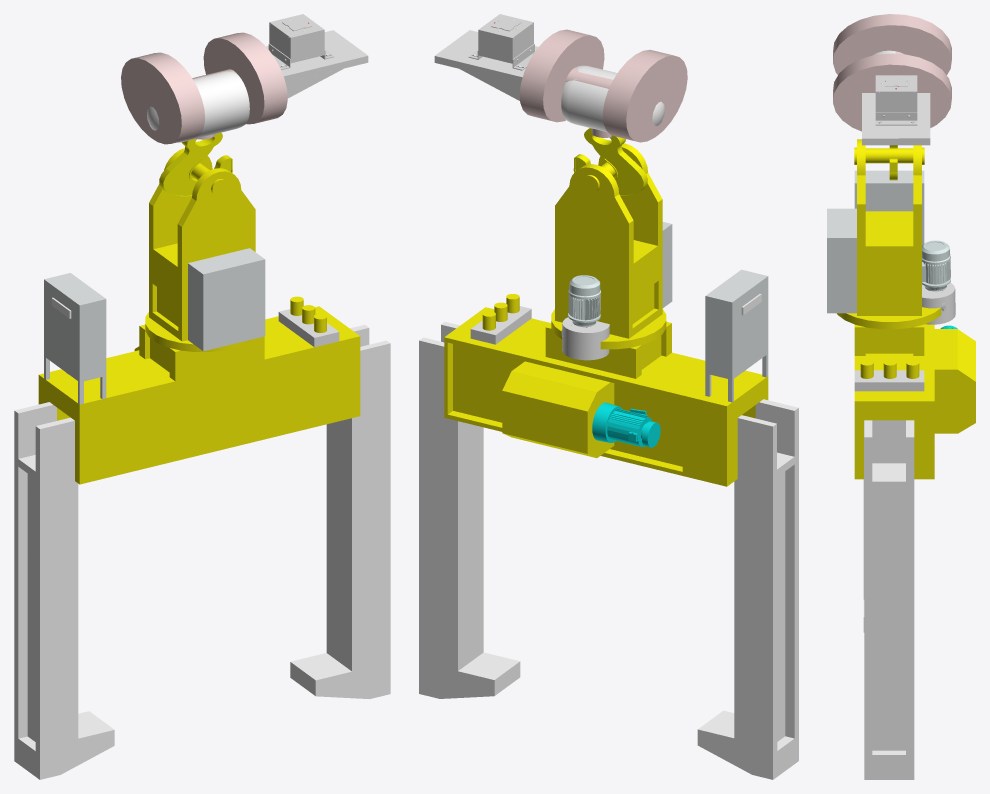
File: Lift.fbx
The picture shows the model from 3 angles, left to right: view 1: azimuth 30°, elevation 25°; view 2: azimuth 150°, elevation 25°; view 3: azimuth 270°, elevation 25°; orthographic projection. The views are drawn at different scales.
Visible parts, largest first — view 1: Baked_Mesh, Group_1_2, Group_1_1, Baked_Mesh_3, Baked_Mesh_2, Baked_Mesh_6, LiftHook, Baked_Mesh_8, Baked_Mesh_5; view 2: Baked_Mesh, Group_1_2, Group_1_1, Baked_Mesh_2, Baked_Mesh_3, Baked_Mesh_6, Baked_Mesh_8, LiftHook, Baked_Mesh_12, Baked_Mesh_5, Baked_Mesh_7; view 3: Baked_Mesh, Group_1_1, Baked_Mesh_2, Baked_Mesh_3, Baked_Mesh_6, Baked_Mesh_8, Group_1_2, Baked_Mesh_7.
Boxes of the visible parts, box(x1,y1,x2,y2) form: Baked_Mesh: box(38, 148, 360, 484); Group_1_2: box(14, 402, 114, 779); Group_1_1: box(290, 324, 390, 699); Baked_Mesh_3: box(44, 248, 265, 404); Baked_Mesh_2: box(121, 32, 287, 144); Baked_Mesh_6: box(266, 30, 368, 347); LiftHook: box(147, 71, 249, 142); Baked_Mesh_8: box(268, 14, 334, 70); Baked_Mesh_5: box(159, 132, 232, 196); Baked_Mesh: box(444, 143, 768, 486); Group_1_2: box(697, 399, 798, 779); Group_1_1: box(419, 322, 520, 698); Baked_Mesh_2: box(519, 29, 687, 142); Baked_Mesh_3: box(662, 222, 768, 402); Baked_Mesh_6: box(434, 30, 609, 360); Baked_Mesh_8: box(468, 14, 534, 70); LiftHook: box(561, 65, 664, 132); Baked_Mesh_12: box(592, 402, 660, 447); Baked_Mesh_5: box(573, 128, 647, 196); Baked_Mesh_7: box(561, 275, 601, 336); Baked_Mesh: box(837, 139, 975, 479); Group_1_1: box(864, 420, 914, 779); Baked_Mesh_2: box(833, 14, 951, 131); Baked_Mesh_3: box(827, 170, 924, 313); Baked_Mesh_6: box(854, 93, 955, 391); Baked_Mesh_8: box(875, 75, 917, 125); Group_1_2: box(863, 420, 905, 632); Baked_Mesh_7: box(922, 240, 950, 310).
Size of what is drawn, in the model's own units: 136 by 250 by 51.09.
